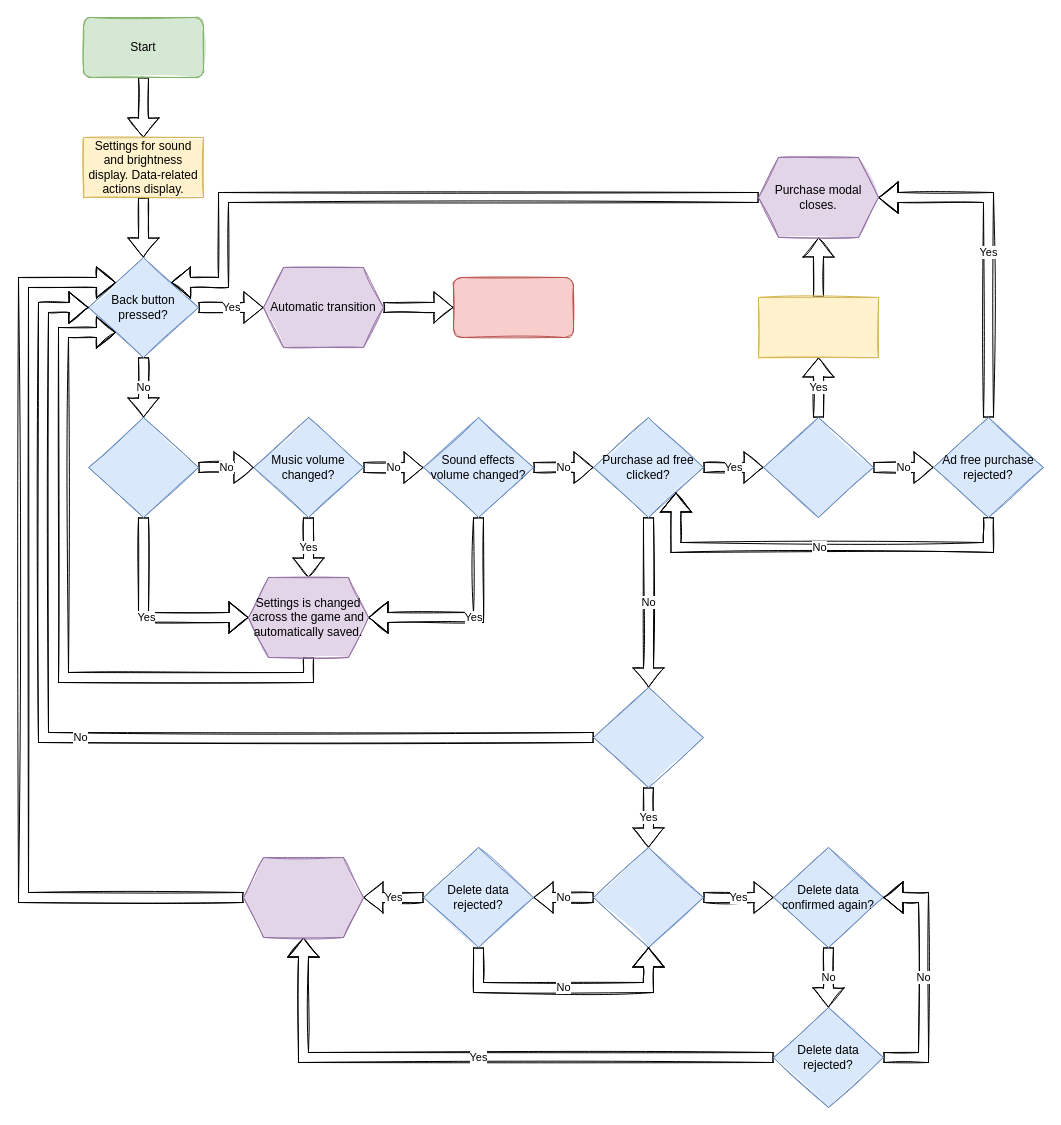
This 1061x1125 diagram has some shape labels left out. Each missing label, with the box of its shape:
Ad free purchase confirmed?: (762, 416, 874, 518)
Ads are removed from the game: (758, 296, 878, 358)
Brightness changed?: (88, 416, 198, 518)
Delete data clicked?: (592, 686, 704, 788)
Delete data confirmed?: (592, 846, 704, 948)
Delete modal closes: (242, 856, 364, 938)
End: (452, 276, 574, 338)
